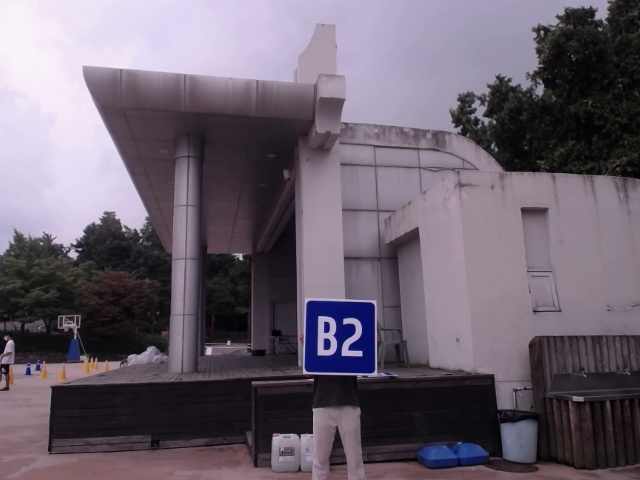delivery_b2: (304, 297, 378, 376)
